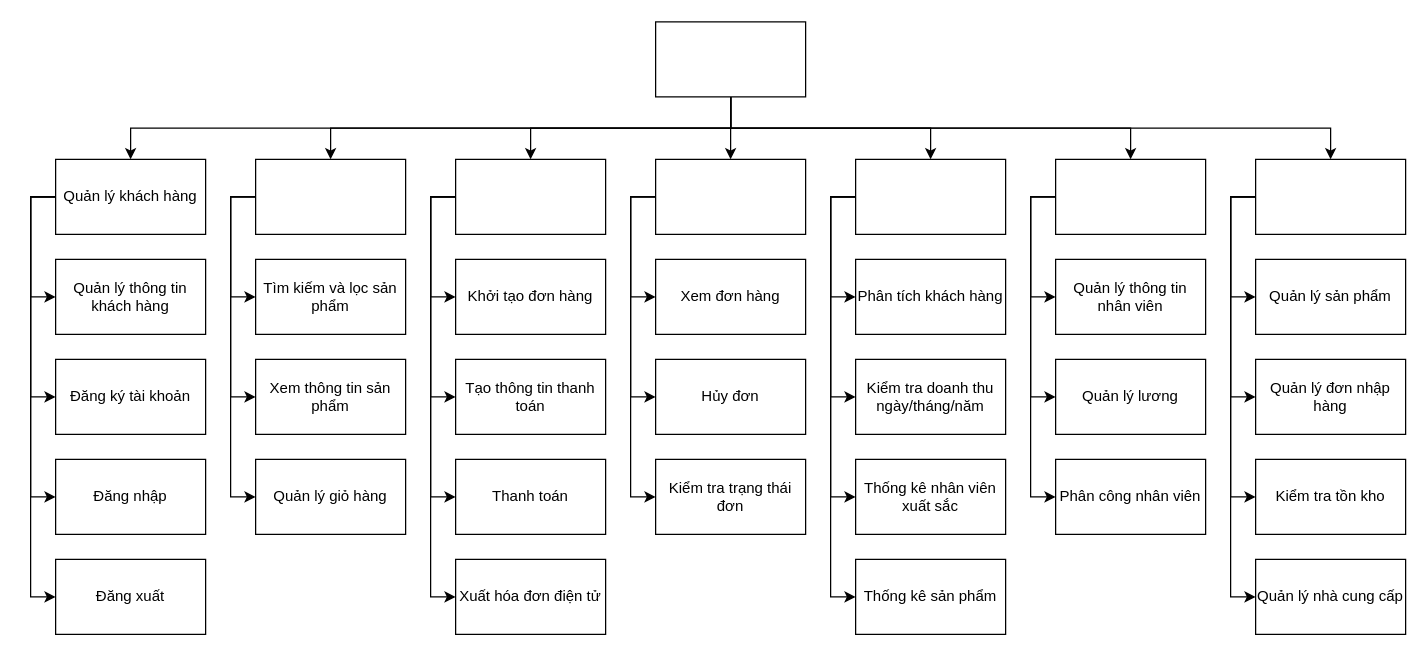
Image size: 1428x656. Some labels were removed from this diagram. Each missing label, with the centre of its shape:
"Báo cáo và thống kê" goes at [930,196].
"Quản lý bán hàng" goes at [330,196].
"Quản lý của hàng" goes at [730,59].
"Quản lý kho" goes at [1330,196].
"Quản lý nhân viên" goes at [1130,196].
"Quản lý thanh toán" goes at [530,196].
"Quản lý đơn hàng" goes at [730,196].
